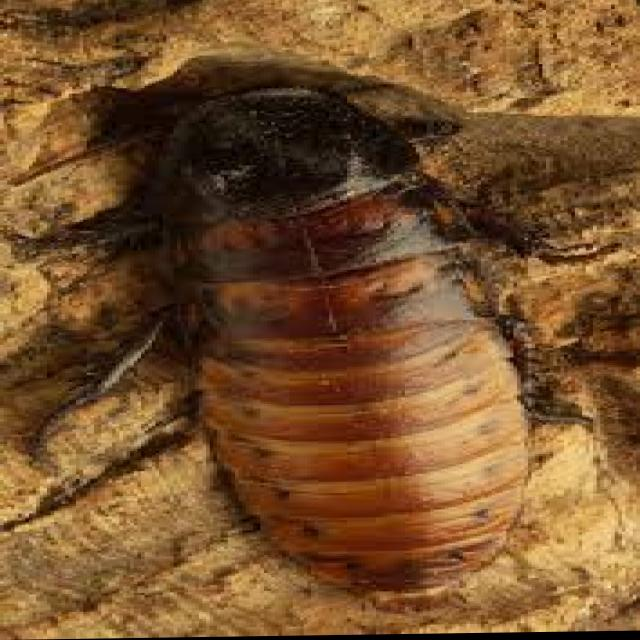Cockroach: (9, 44, 640, 639)
